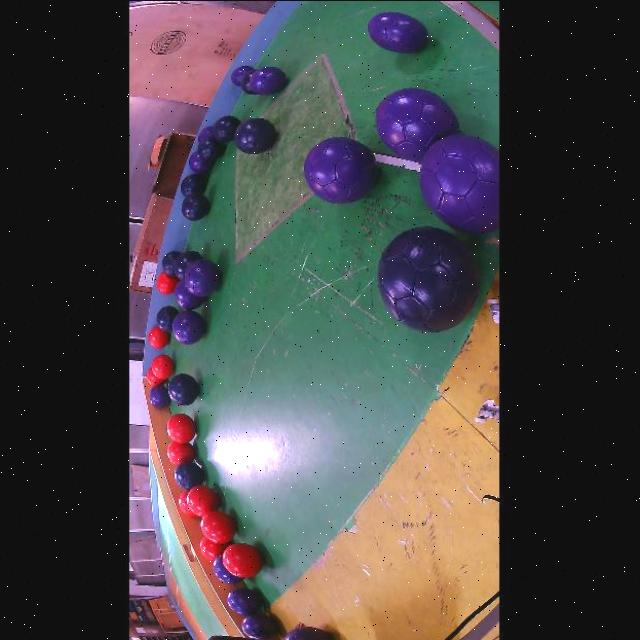B: (377, 226, 478, 331), (234, 117, 276, 154), (167, 372, 199, 405), (173, 460, 204, 490), (173, 250, 202, 279), (211, 114, 240, 142), (181, 192, 209, 219), (197, 136, 225, 160), (155, 306, 179, 331), (180, 173, 206, 196), (161, 250, 180, 276), (239, 68, 256, 95)
P: (419, 133, 499, 234), (374, 87, 458, 162), (303, 136, 378, 203), (368, 11, 428, 52), (184, 258, 221, 295), (172, 309, 206, 344), (248, 65, 285, 95), (240, 613, 278, 640), (173, 279, 205, 309), (226, 587, 261, 614), (212, 555, 242, 583), (283, 625, 332, 640), (188, 150, 213, 172), (148, 384, 170, 407), (230, 64, 252, 86), (197, 126, 212, 142)
R: (221, 542, 262, 577), (199, 510, 235, 542), (185, 484, 220, 515), (166, 412, 195, 443), (199, 536, 228, 560), (167, 441, 194, 465), (150, 353, 173, 378), (155, 271, 179, 294), (177, 490, 197, 517), (148, 325, 168, 348), (145, 367, 165, 385)
